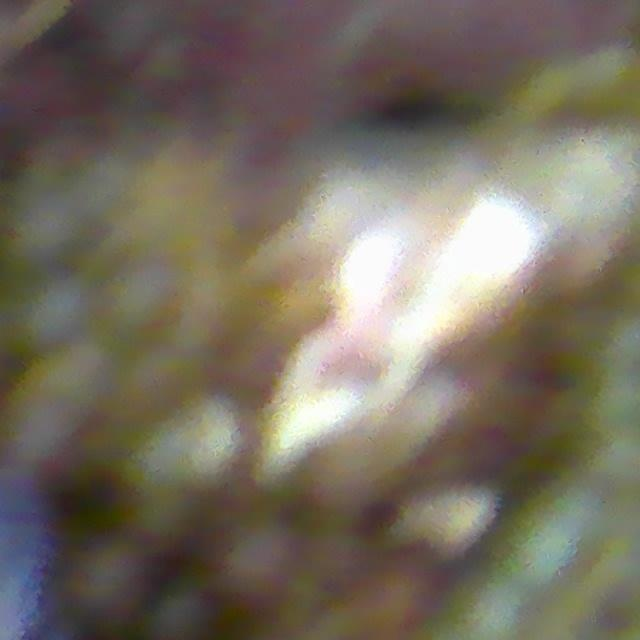SeaGrape: (67, 539, 149, 623), (221, 515, 299, 598), (146, 586, 215, 640), (461, 586, 527, 640)
